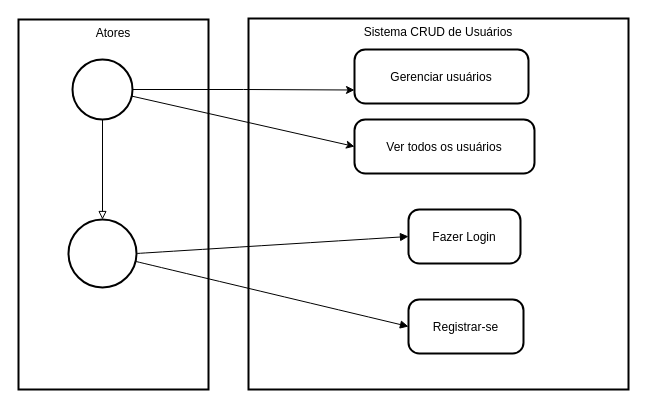
This 646x407 diagram has some shape labels left out. Each missing label, with the box of its shape:
Admin: (71, 58, 133, 120)
Usuário: (67, 218, 137, 288)
